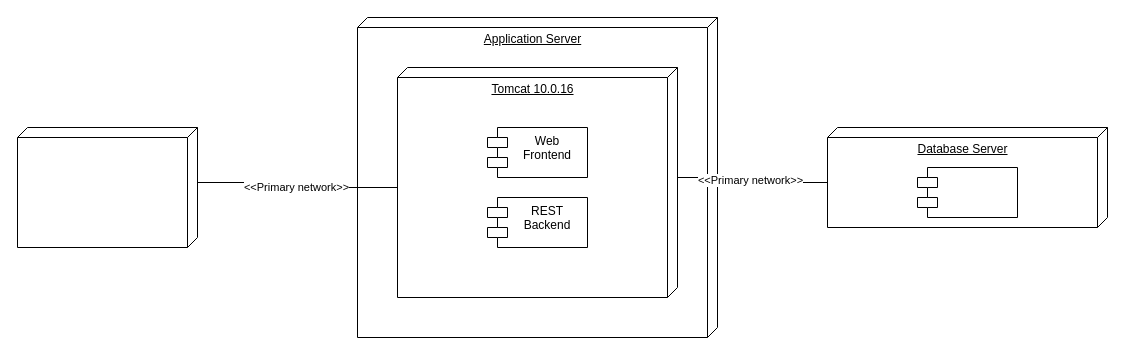
Some shapes in this 1125 by 355 pixel diagram are drawn without their labels. The box of each missing label's shape, as (x1, y1, x2, y2) in pixels:
Browser: (16, 126, 198, 248)
PostgreSQL Database: (916, 166, 1018, 218)
